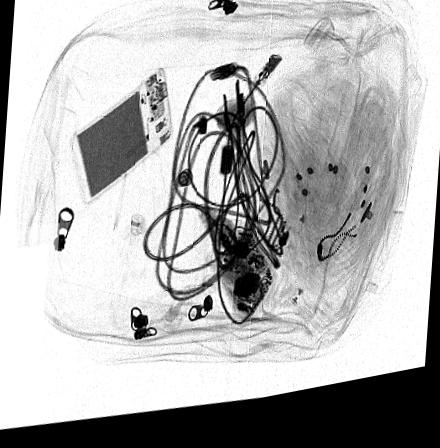Powerbank: (70, 74, 174, 206)
